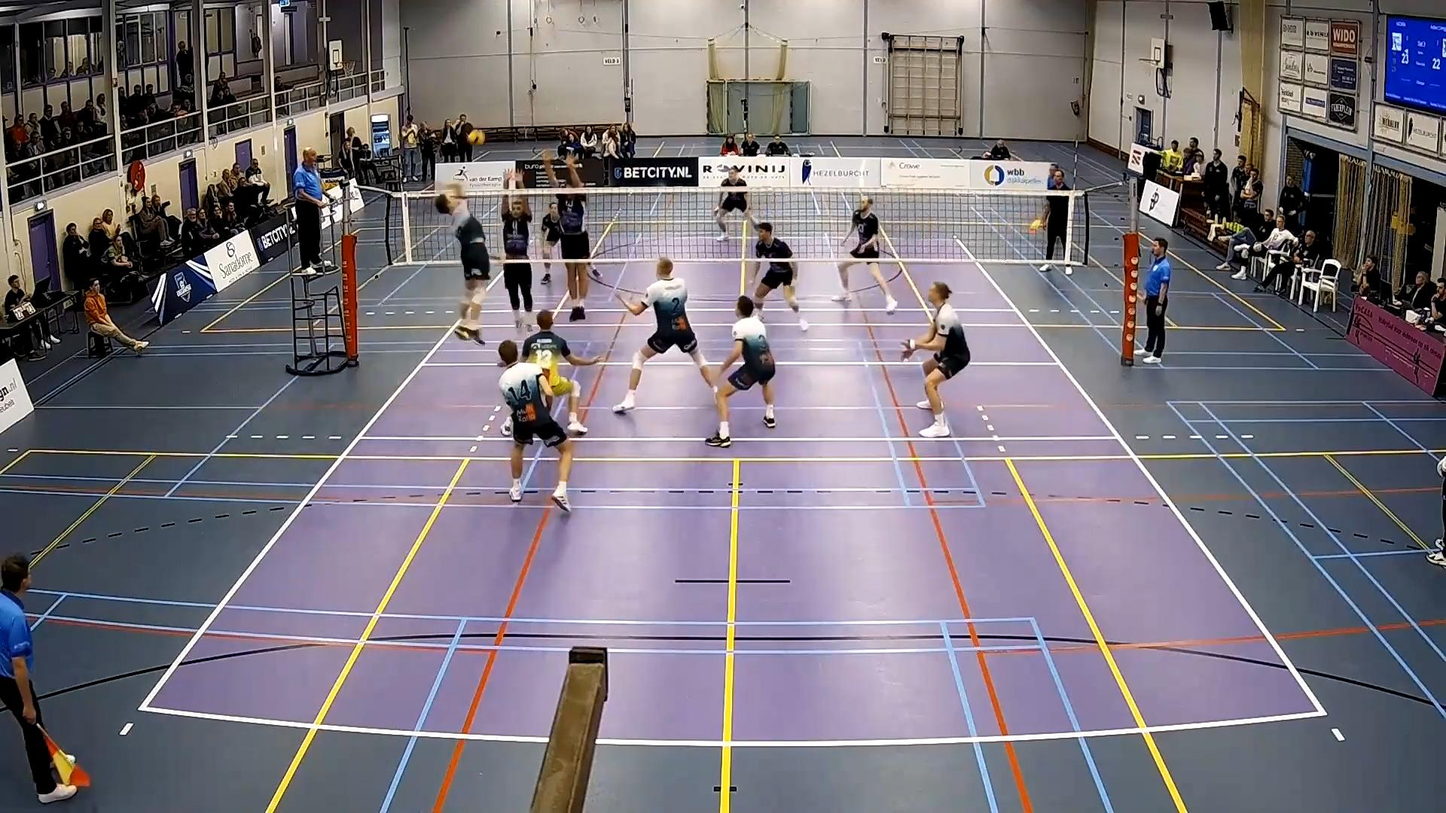Attack: (429, 178, 497, 341)
Block: (540, 146, 596, 327), (500, 164, 541, 339)
Player: (612, 257, 712, 413), (499, 340, 572, 511), (902, 282, 970, 437), (705, 297, 775, 447), (521, 309, 598, 434), (832, 196, 897, 314), (751, 221, 807, 330), (714, 167, 756, 241), (540, 202, 561, 284)
ball: (466, 131, 486, 145)
